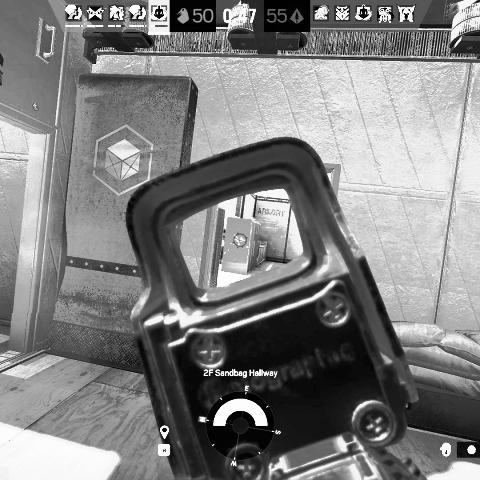Character: (219, 227, 227, 266)
